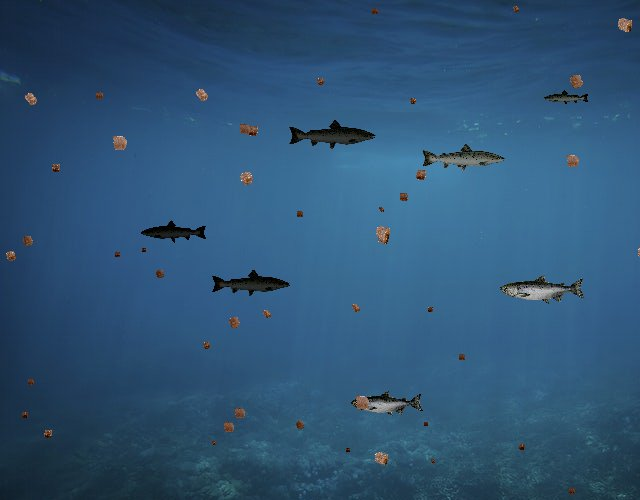Fish: (288, 119, 378, 151), (420, 142, 506, 173), (500, 274, 586, 305), (211, 268, 292, 297), (352, 390, 425, 417), (141, 220, 209, 244), (543, 89, 590, 106)
Pellet: (104, 128, 134, 157), (0, 245, 22, 267), (242, 120, 264, 142), (346, 299, 365, 318), (394, 188, 412, 206), (514, 440, 528, 454), (368, 4, 382, 18), (424, 304, 437, 317), (111, 249, 123, 261), (208, 438, 218, 448)
